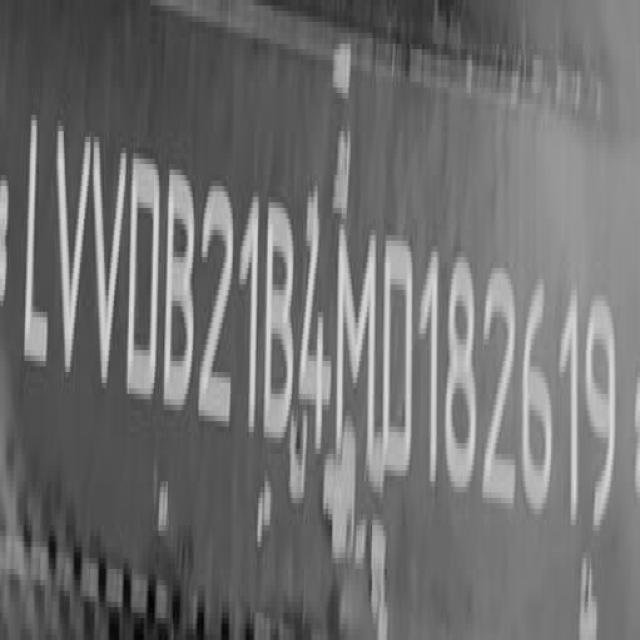1: (418, 245, 441, 490), (558, 288, 581, 531), (238, 192, 259, 444)
2: (484, 270, 520, 518), (202, 182, 236, 436)
4: (300, 208, 333, 470)
6: (519, 280, 554, 518)
8: (446, 253, 480, 501)
9: (588, 296, 620, 536)
B: (165, 164, 198, 419), (264, 195, 296, 455)
D: (379, 235, 419, 494), (127, 150, 162, 413)
L: (22, 111, 53, 378)
M: (336, 218, 375, 489)
V: (52, 116, 90, 389), (93, 128, 129, 400)
